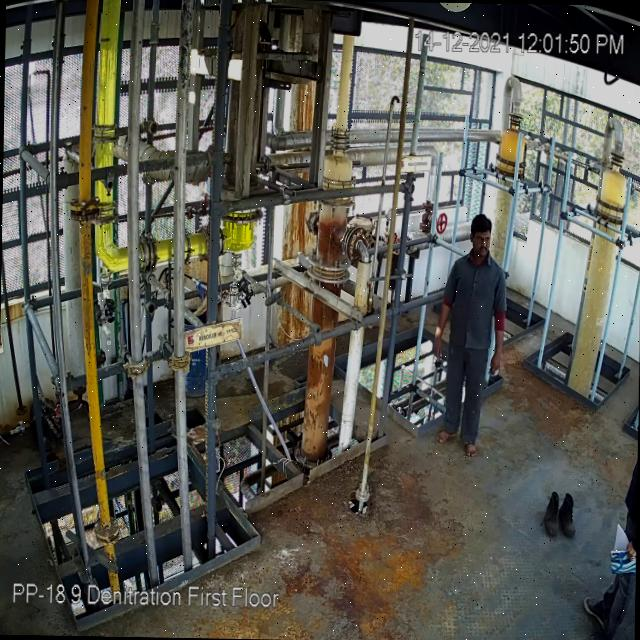boots: (542, 489, 564, 538), (559, 493, 578, 536)
no-boots: (432, 428, 458, 443), (461, 440, 477, 460)
